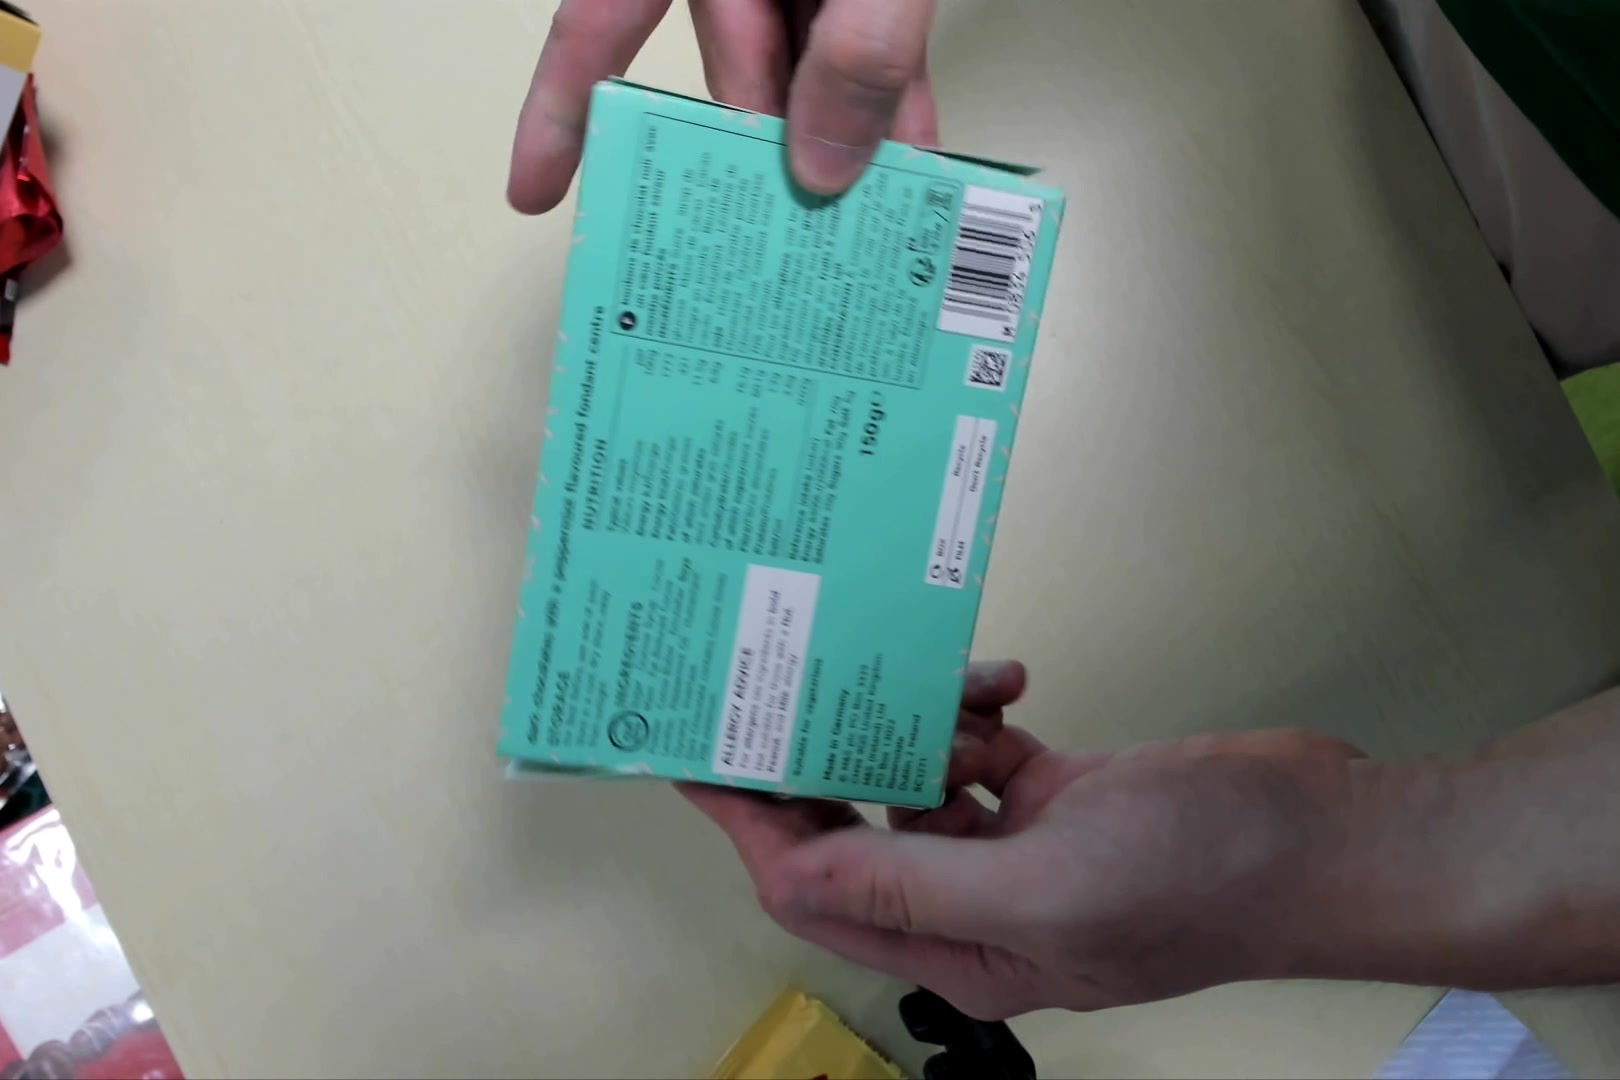SweetsChocolatesOthers_100-199g_NonHalal_NonHealthy: (506, 80, 1052, 800)
